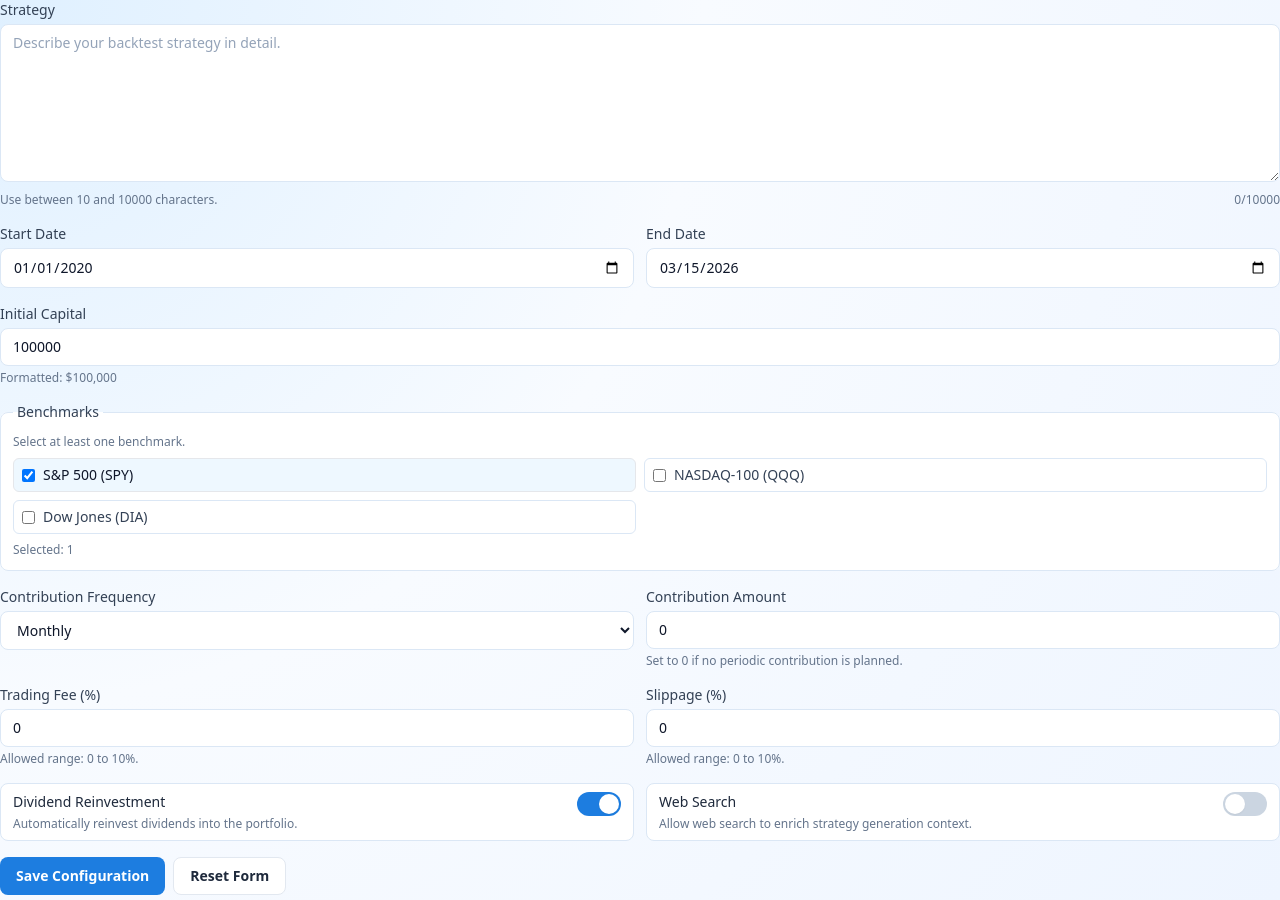
ConfigForm › shows validation summary on invalid submit
Step 1. Click the button "Save Configuration" → x=83, y=876, box [0,857,165,895]
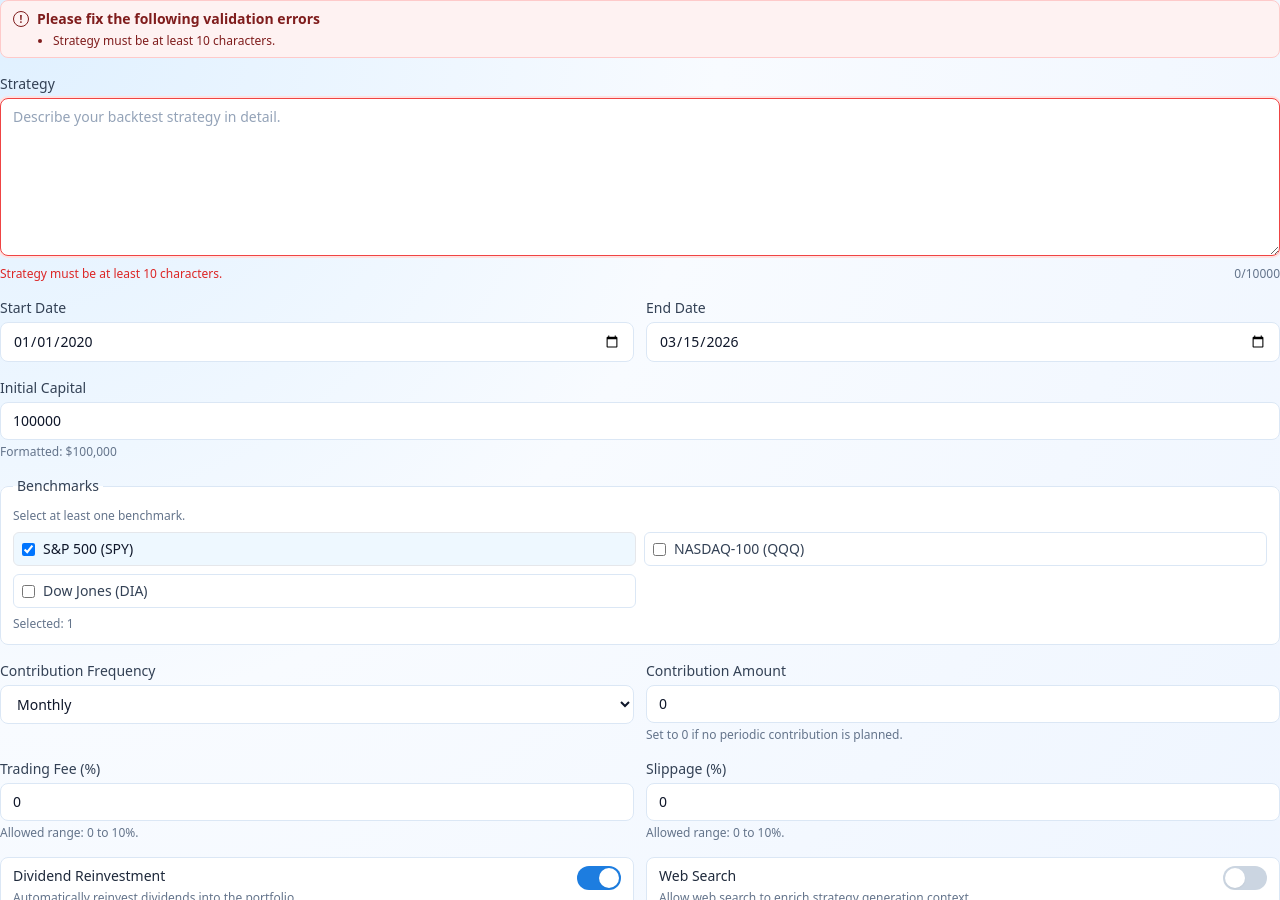
Now the text "Please fix the following validation errors" is shown, box [37,9,320,29]
Now the list item "Strategy must be at least 10 characters." is shown, box [53,32,275,49]
